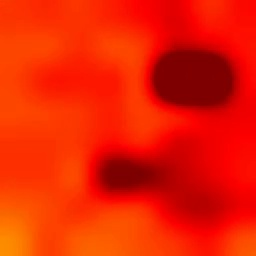person: (102, 135, 222, 219)
